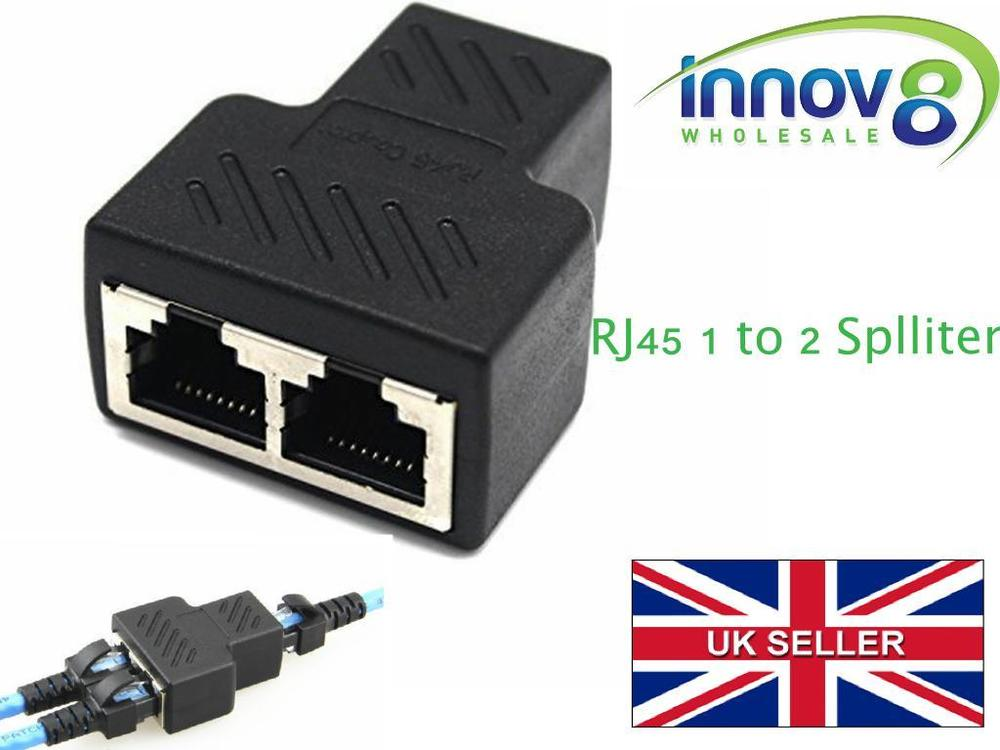lan: (109, 295, 272, 471), (276, 345, 436, 517)
